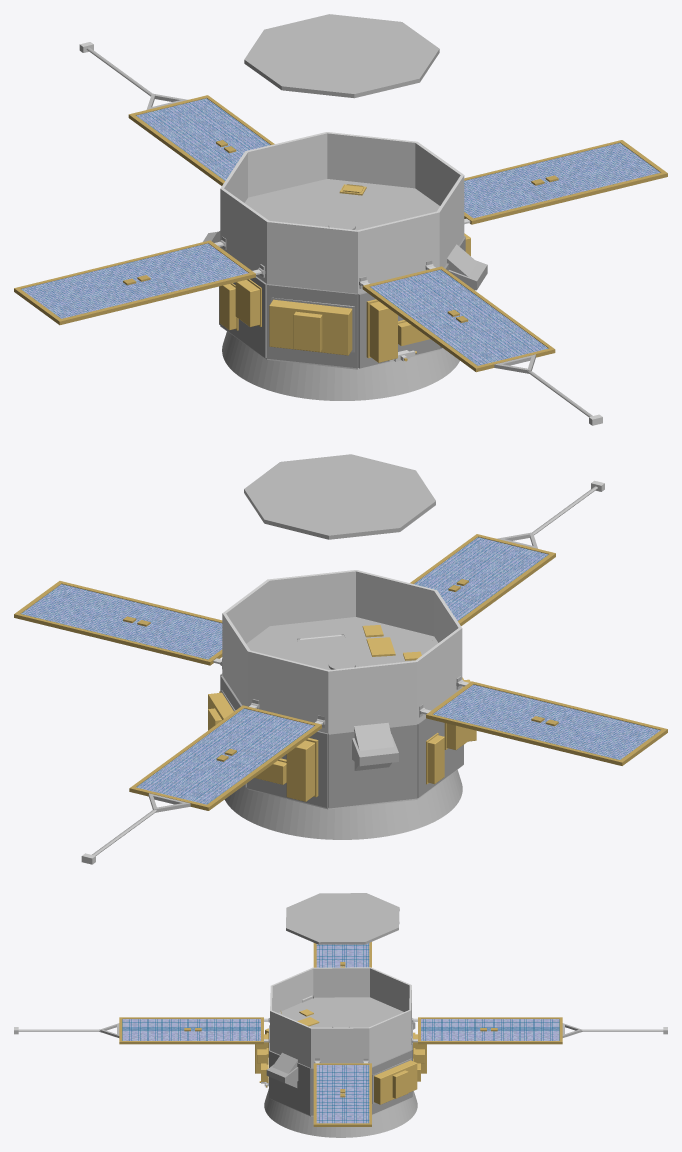
File: module 1.fbx
3 renders of one model, top to bottom at view 1: azimuth 30°, elevation 25°; view 2: azimuth 150°, elevation 25°; view 3: azimuth 270°, elevation 25°, orthographic. The views are drawn at different scales.
Parts seen in each view (by area): view 1: Layer_0; view 2: Layer_0; view 3: Layer_0.
Boxes of the visible parts, x1,y1,x2,y2 form: Layer_0: (14, 14, 667, 425); Layer_0: (14, 454, 667, 864); Layer_0: (14, 893, 667, 1137).
Bounding box in the file's own units: 12019 × 5569 × 17546.
